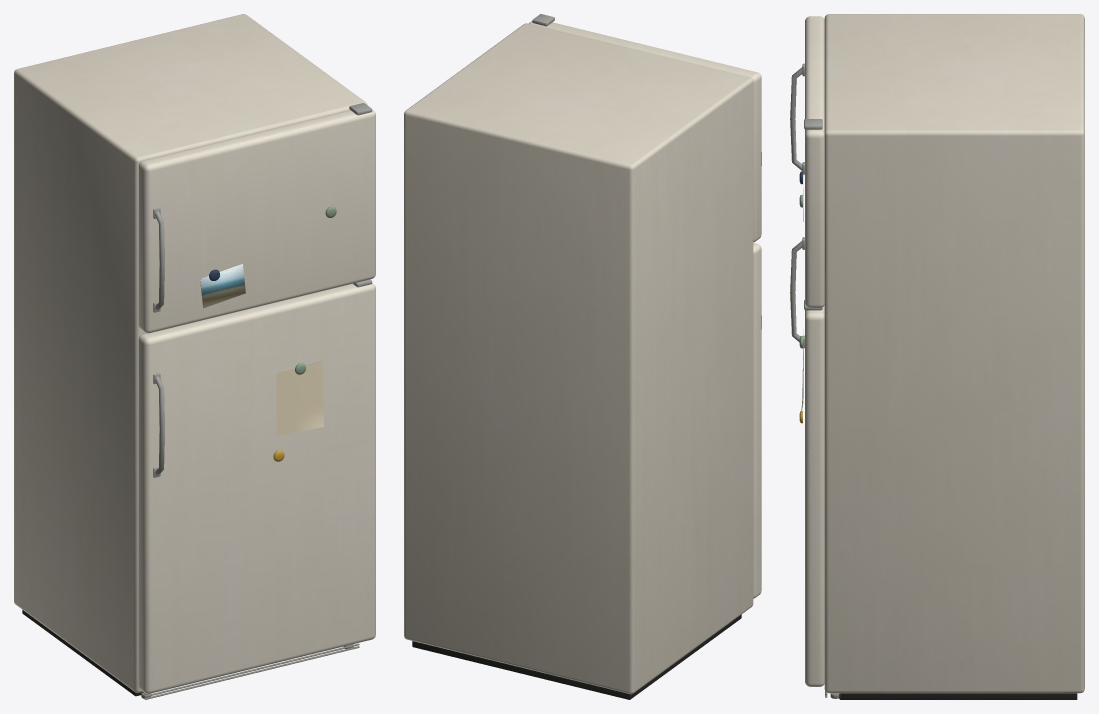
The model's file is w51fridge.glb.
The picture shows the model from 3 angles, left to right: view 1: azimuth 30°, elevation 25°; view 2: azimuth 150°, elevation 25°; view 3: azimuth 270°, elevation 25°; orthographic projection. The views are drawn at different scales.
Parts seen in each view (by area): view 1: fridge; view 2: fridge; view 3: fridge.
Part boxes in pixels (left/top/right/bottom): fridge: left=14, top=14, right=375, bottom=699; fridge: left=404, top=14, right=761, bottom=699; fridge: left=790, top=14, right=1084, bottom=699.
Bounding box in the file's own units: 0.7565 × 1.7 × 0.7889.
Materials: 1 (1 with a texture image).
